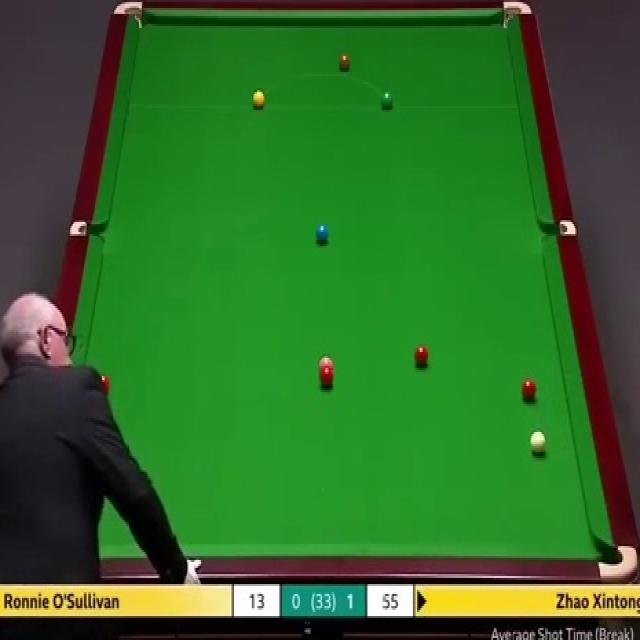pocket: (596, 544, 640, 582), (111, 0, 142, 31), (498, 1, 532, 28), (543, 218, 576, 238), (70, 220, 103, 237)
